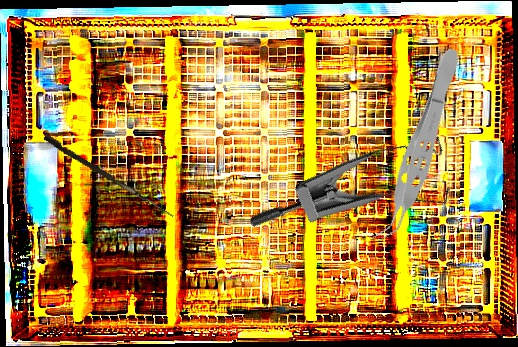Hook Surgical: (41, 133, 178, 218)
Speculum: (246, 103, 472, 300)
Tissue Forceps: (370, 44, 469, 249)
